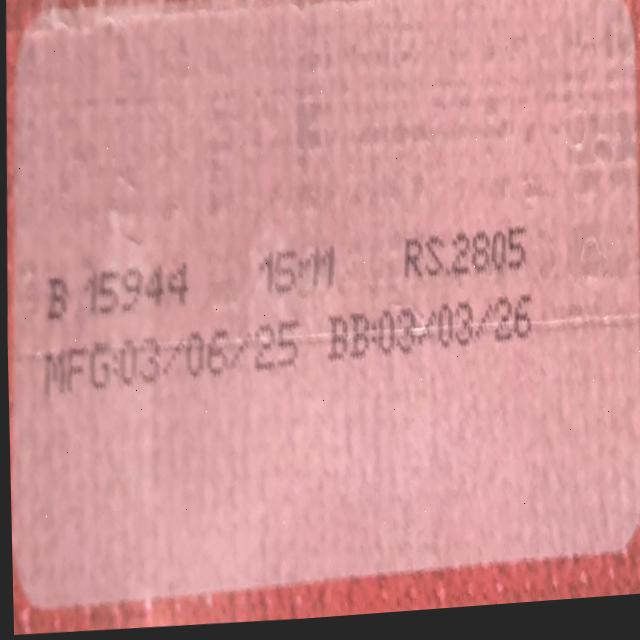BB: (325, 300, 541, 378)
Batch: (41, 255, 212, 333)
MFG: (43, 317, 310, 418)
RS: (392, 189, 544, 296)
TimeStamp: (253, 230, 352, 317)
